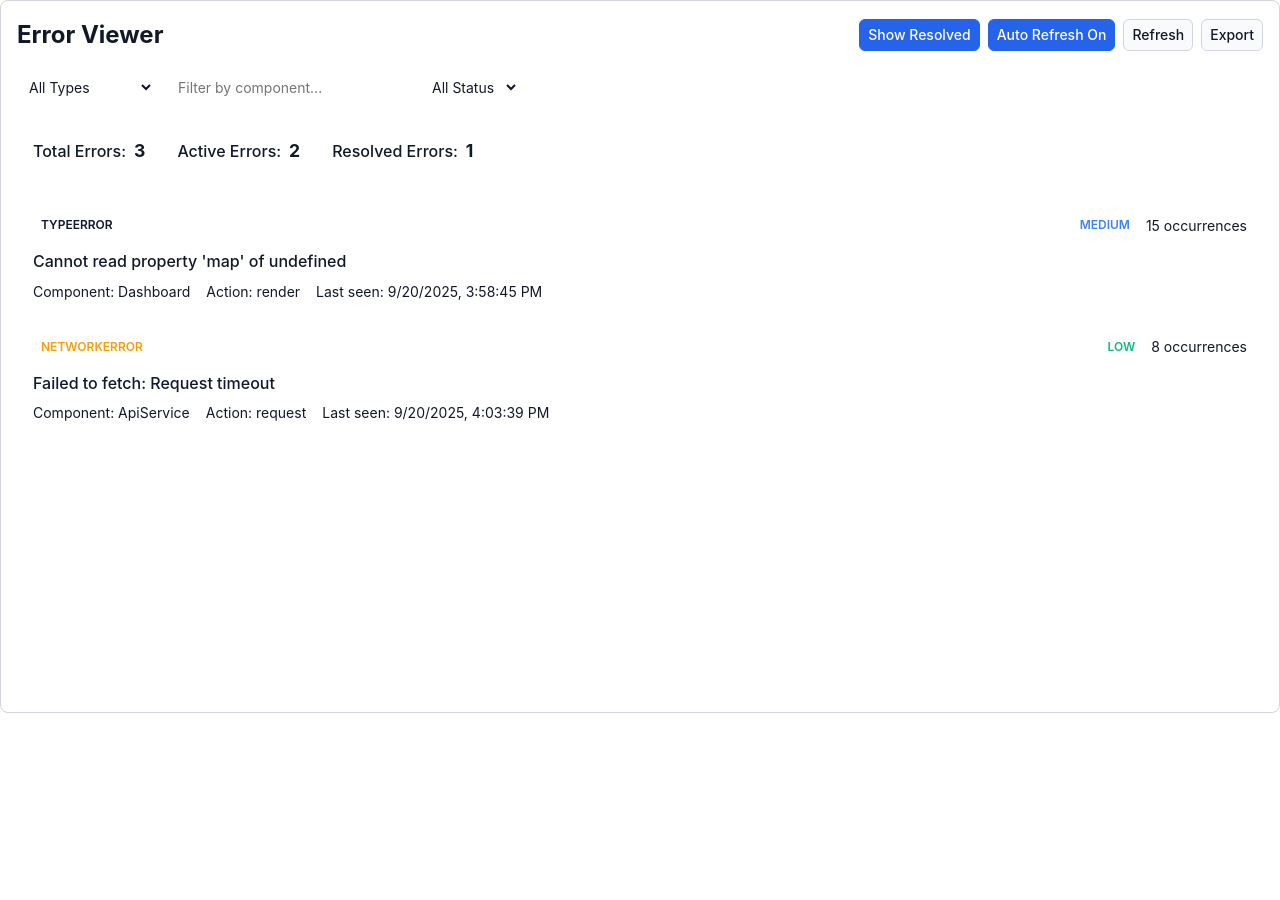
Test: ErrorViewer Component › hides resolved errors when toggled back
This screenshot has width=1280, height=900.
Expected: the heading "Error Viewer" is shown, [17,17,163,53]
# Show resolved errors
Click the button "Show Resolved": (919, 35) [859,19,980,51]
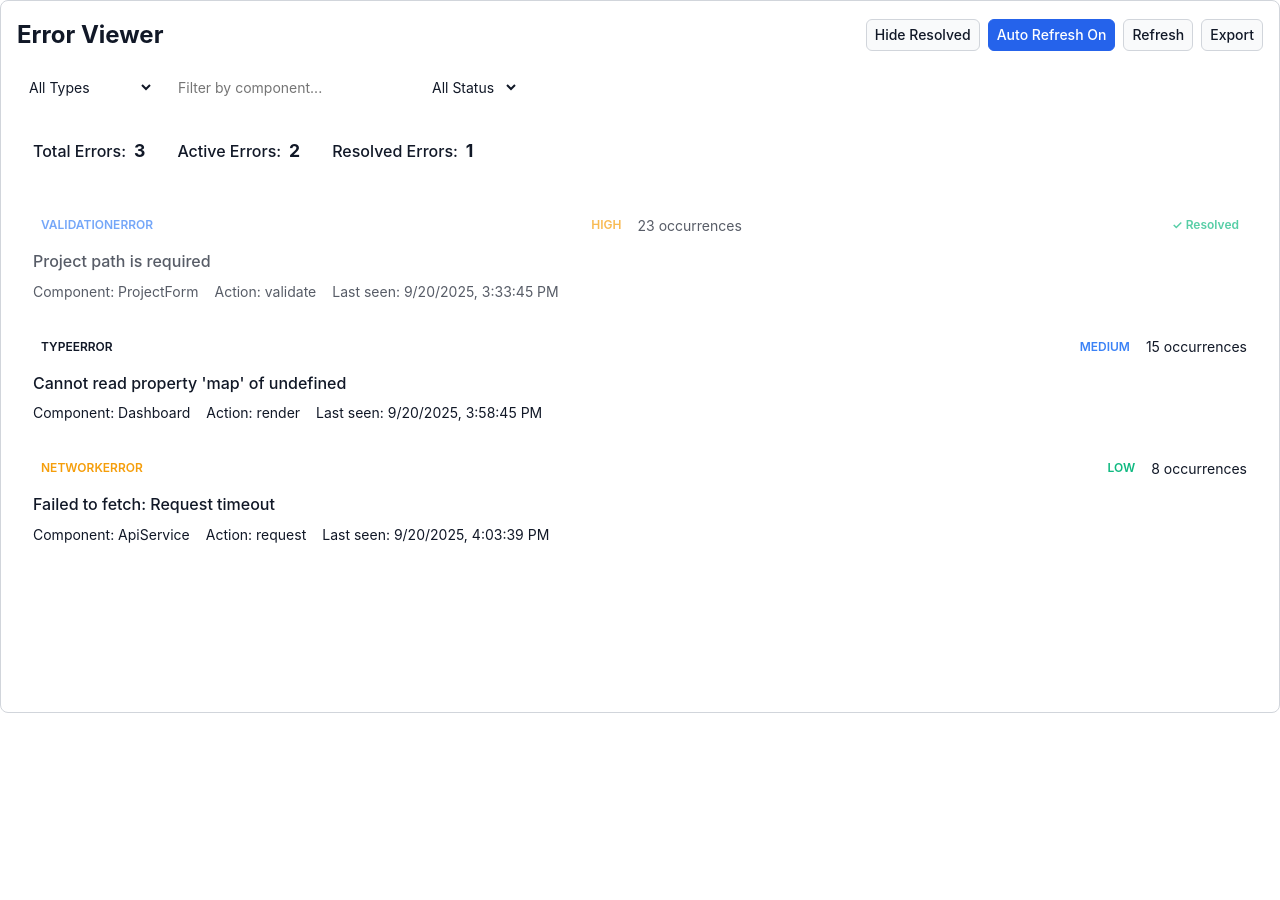
Expected: the text "Project path is required" is shown, [33,251,211,271]
# Hide resolved errors
Click the button "Hide Resolved": (923, 35) [866,19,980,51]
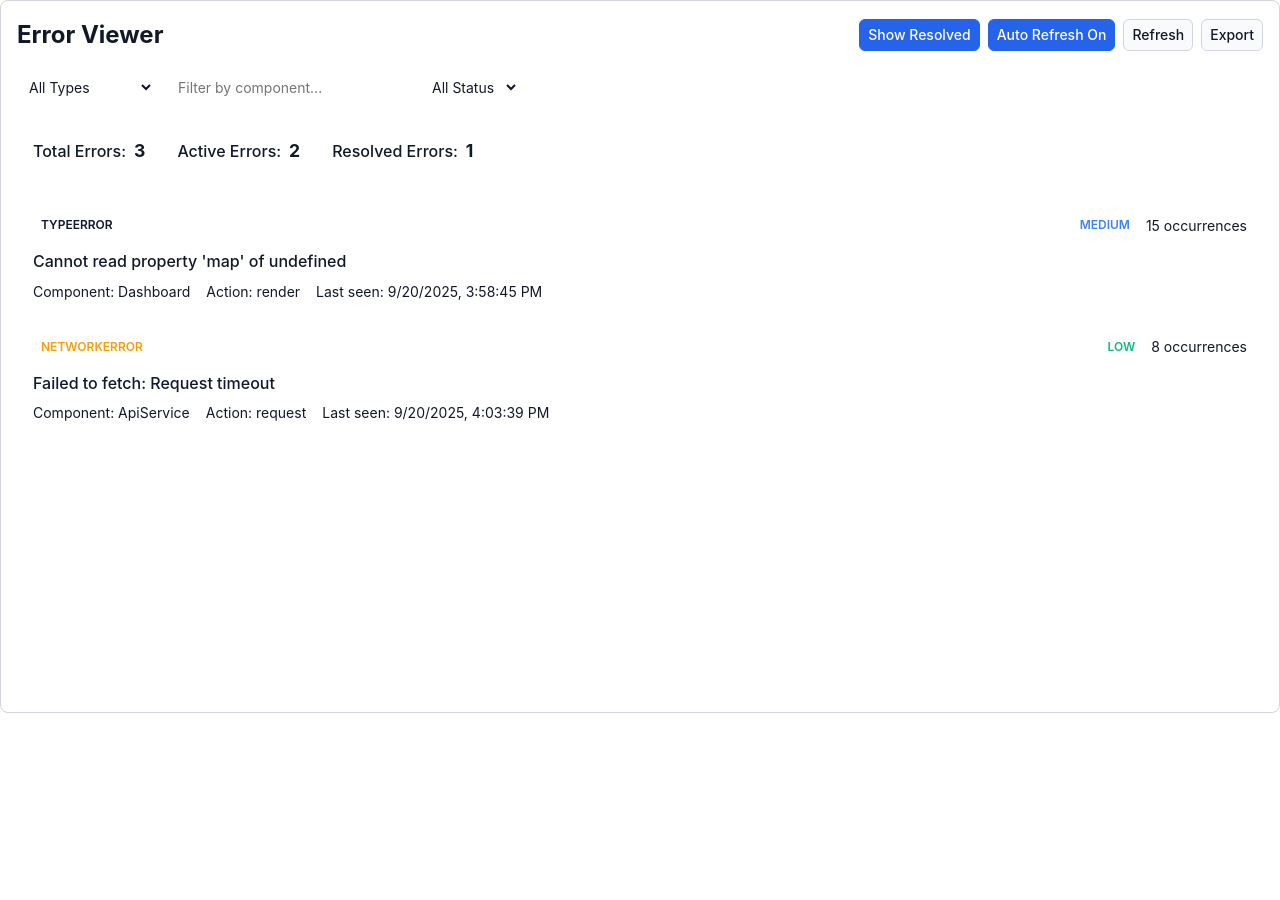
Expected: the text "Project path is required" is gone
